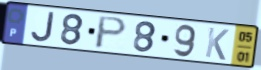8: (132, 19, 157, 54), (59, 13, 84, 47)
9: (172, 23, 198, 58)
J: (29, 10, 57, 44)
K: (203, 26, 231, 62)
P: (93, 15, 129, 51)
